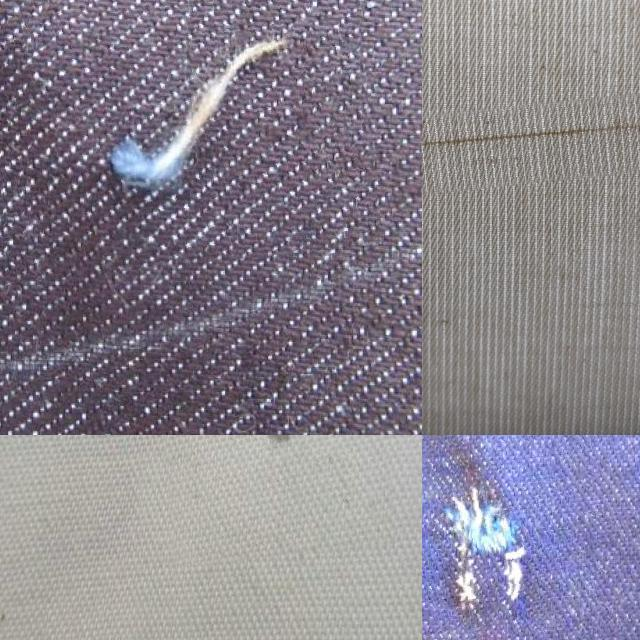stains: (422, 435, 625, 640), (154, 435, 390, 562), (422, 97, 640, 204)
